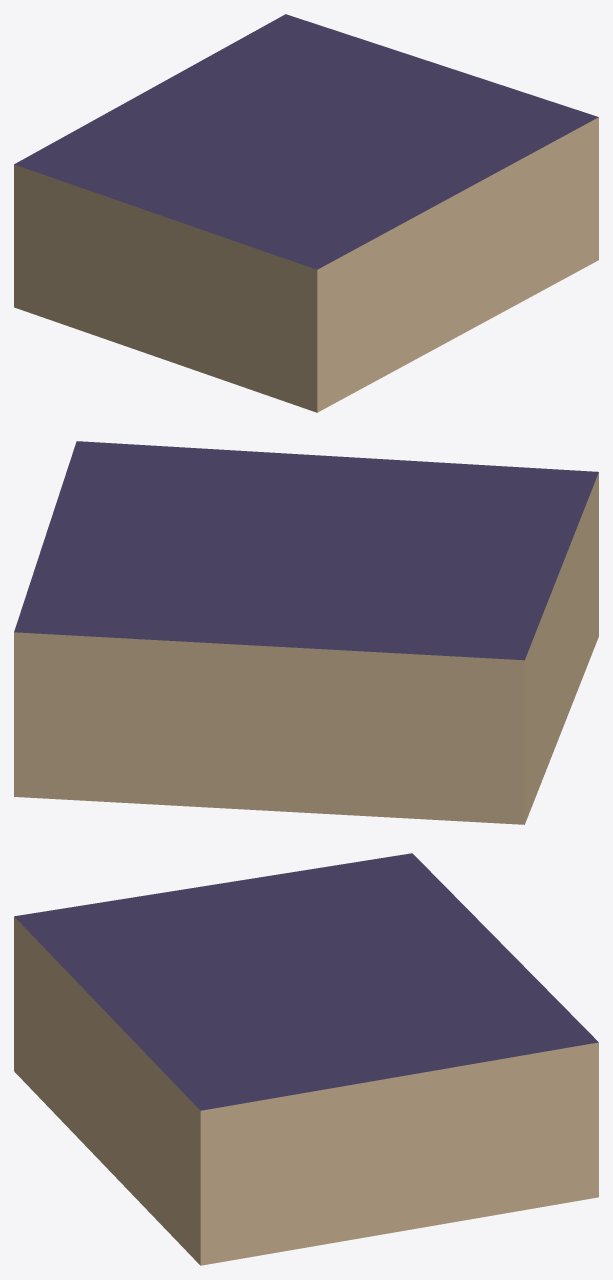
3 renders of one model, top to bottom at view 1: azimuth 30°, elevation 25°; view 2: azimuth 150°, elevation 25°; view 3: azimuth 270°, elevation 25°, orthographic. The views are drawn at different scales.
Visible parts, largest first — view 1: campus/b-064-0; view 2: campus/b-064-0; view 3: campus/b-064-0.
Boxes of the visible parts, x1,y1,x2,y2 form: campus/b-064-0: (14,14,598,412); campus/b-064-0: (14,441,598,824); campus/b-064-0: (14,853,598,1265).
Size of the model in its own units: 10.7 by 3 by 10.26.
